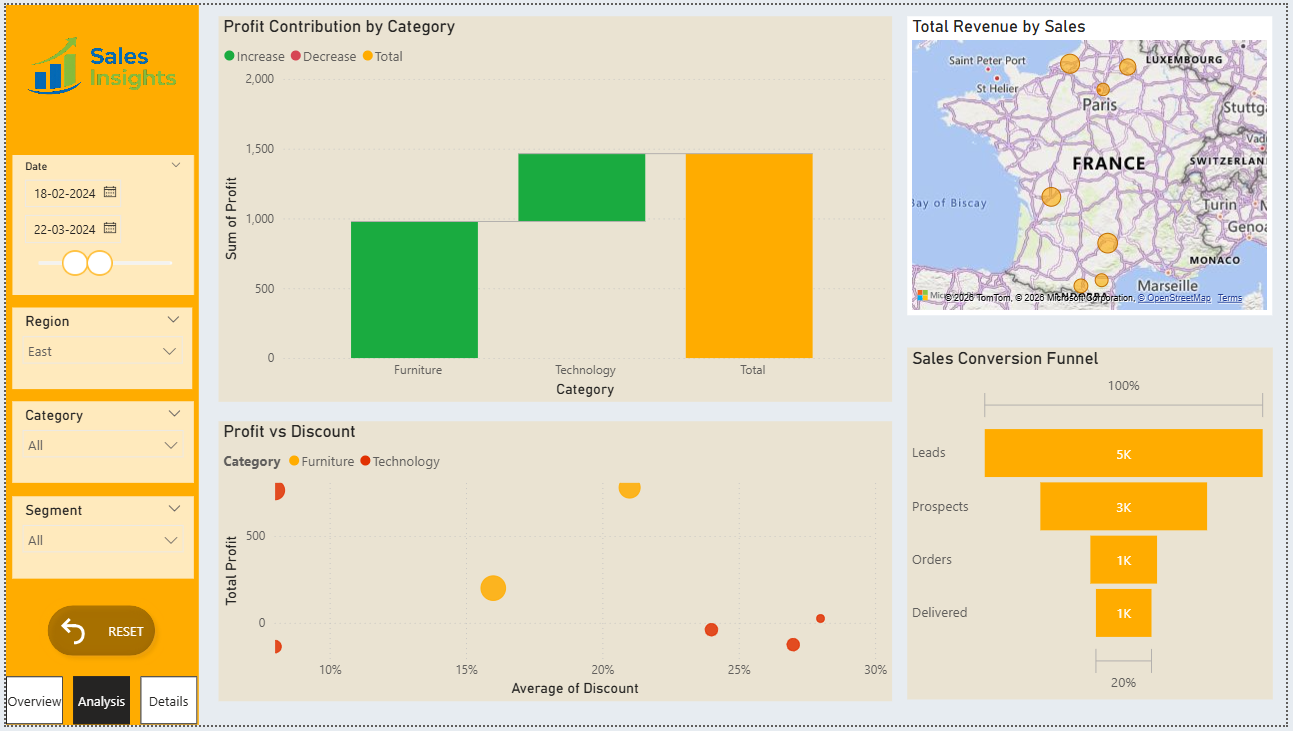

The page's visual inventory and layout, read from the dashboard file:
{"tool":"powerbi","page":{"name":"Analysis","canvas":[1280,720],"ordinal":1},"visuals":[{"type":"map","fields":{"Size":["Sales_Data.Total Revenue"],"Category":["Sales_Data.Sales"]},"box":[901.7,11.7,365,298.3],"z":0},{"type":"scatterChart","title":"Profit vs Discount","fields":{"Y":["Sales_Data.Total Profit"],"Series":["Sales_Data.Category"],"X":["Avg(Sales_Data.Discount)"],"Category":["Sales_Data.Sub_Category"],"Size":["Sum(Sales_Data.Quantity)"]},"box":[212.8,415.8,673.8,280],"z":1000},{"type":"funnel","title":"Sales Conversion Funnel","fields":{"Category":["Sales_Funnel.Stage"],"Y":["Sum(Sales_Funnel.Count)"]},"box":[901.2,342.4,365.6,352.2],"z":2000},{"type":"waterfallChart","title":"Profit Contribution by Category","fields":{"Category":["Sales_Data.Category"],"Y":["Sum(Sales_Data.Profit)"]},"box":[212.2,11.1,673.3,385.6],"z":3000},{"type":"shape","box":[0,0,192.9,720],"z":4000},{"type":"pageNavigator","box":[0,671.8,192.9,48.2],"z":5000},{"type":"image","box":[10,20,173.3,78.3],"z":6000},{"type":"slicer","fields":{"Values":["Sales_Data.Order_Date"]},"box":[6,150,181.3,140],"z":7000},{"type":"slicer","fields":{"Values":["Sales_Data.Region"]},"box":[6,302,180,81.3],"z":8000},{"type":"slicer","fields":{"Values":["Sales_Data.Category","Sales_Data.Sub_Category"]},"box":[6,396.7,181.3,81.3],"z":9000},{"type":"slicer","fields":{"Values":["Sales_Data.Segment"]},"box":[6,490.7,181.3,82.7],"z":10000},{"type":"actionButton","box":[32.9,591.4,125.7,68.6],"z":11000}]}

Visuals, with their boxes in screenshot pixels (x1, y1, x2, y2), scaled from the page's 1280x720 canvas onto the 1293x731 screenshot:
map - Sales_Data.Total Revenue x Sales_Data.Sales: left=911, top=12, right=1280, bottom=315
"Profit vs Discount" scatterChart: left=215, top=422, right=896, bottom=706
"Sales Conversion Funnel" funnel: left=910, top=348, right=1280, bottom=705
"Profit Contribution by Category" waterfallChart: left=214, top=11, right=894, bottom=403
shape: left=0, top=0, right=195, bottom=730
pageNavigator: left=0, top=682, right=195, bottom=730
image: left=10, top=20, right=185, bottom=100
slicer - Sales_Data.Order_Date: left=6, top=152, right=189, bottom=294
slicer - Sales_Data.Region: left=6, top=307, right=188, bottom=389
slicer - Sales_Data.Category x Sales_Data.Sub_Category: left=6, top=403, right=189, bottom=485
slicer - Sales_Data.Segment: left=6, top=498, right=189, bottom=582
actionButton: left=33, top=600, right=160, bottom=670
